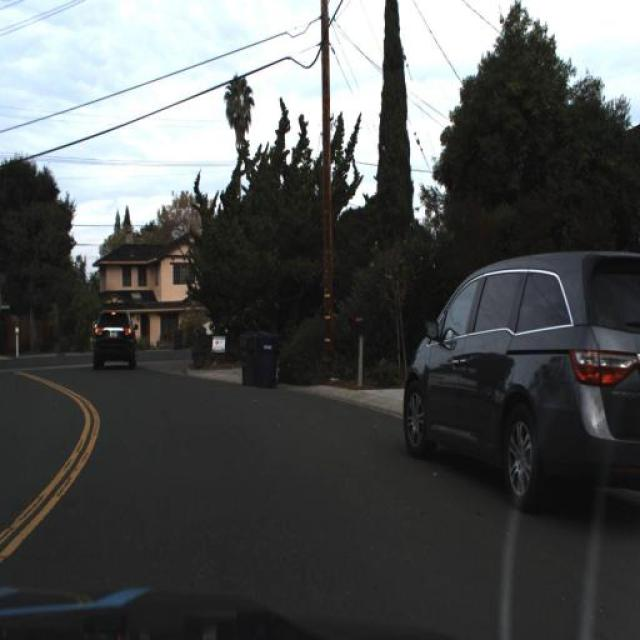car: (395, 234, 639, 516), (87, 304, 141, 376)
